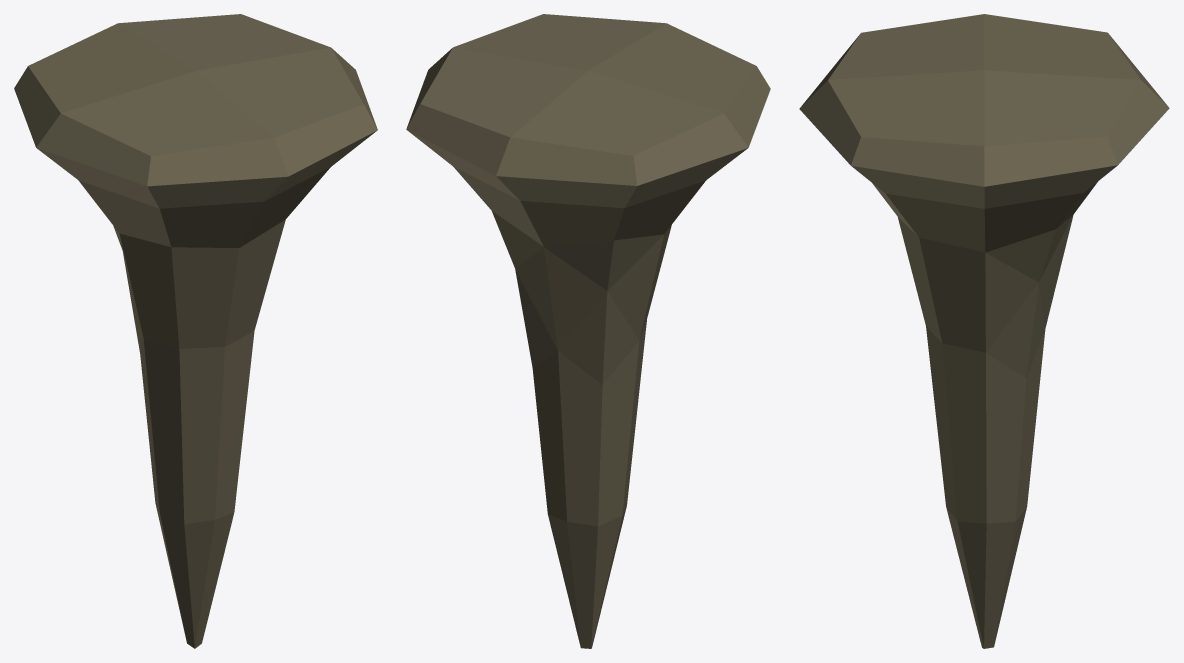
The model's file is 2stologmit.fbx.
The picture shows the model from 3 angles, left to right: view 1: azimuth 30°, elevation 25°; view 2: azimuth 150°, elevation 25°; view 3: azimuth 270°, elevation 25°; orthographic projection.
Parts seen in each view (by area): view 1: Куб; view 2: Куб; view 3: Куб.
Boxes of the visible parts, x1,y1,x2,y2 form: Куб: (14,14,377,648); Куб: (406,14,770,648); Куб: (799,14,1169,648).
Bounding box in the file's own units: 169 × 291 × 169.
